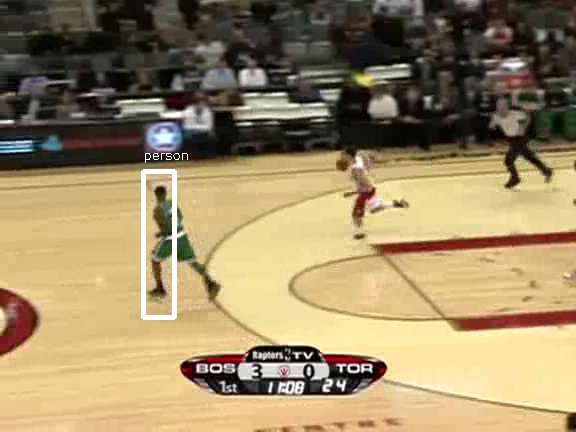person: (156, 195, 190, 276), (155, 195, 189, 276), (157, 195, 191, 276), (156, 194, 190, 275), (156, 196, 190, 277)
target_negative: (35, 165, 119, 370), (232, 191, 534, 232), (213, 426, 489, 429), (346, 157, 353, 229), (82, 112, 90, 142), (381, 284, 500, 285)
